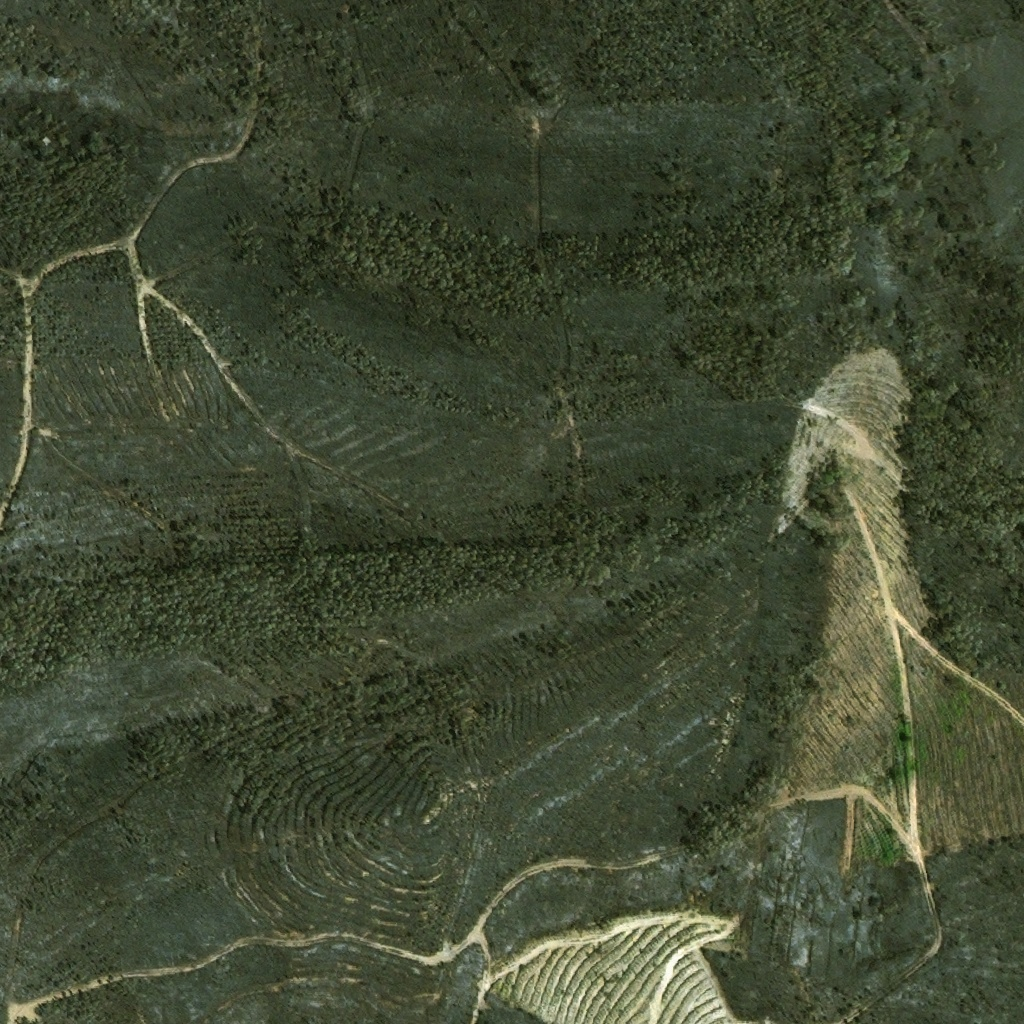0 no-damage: (39, 138, 50, 148)
